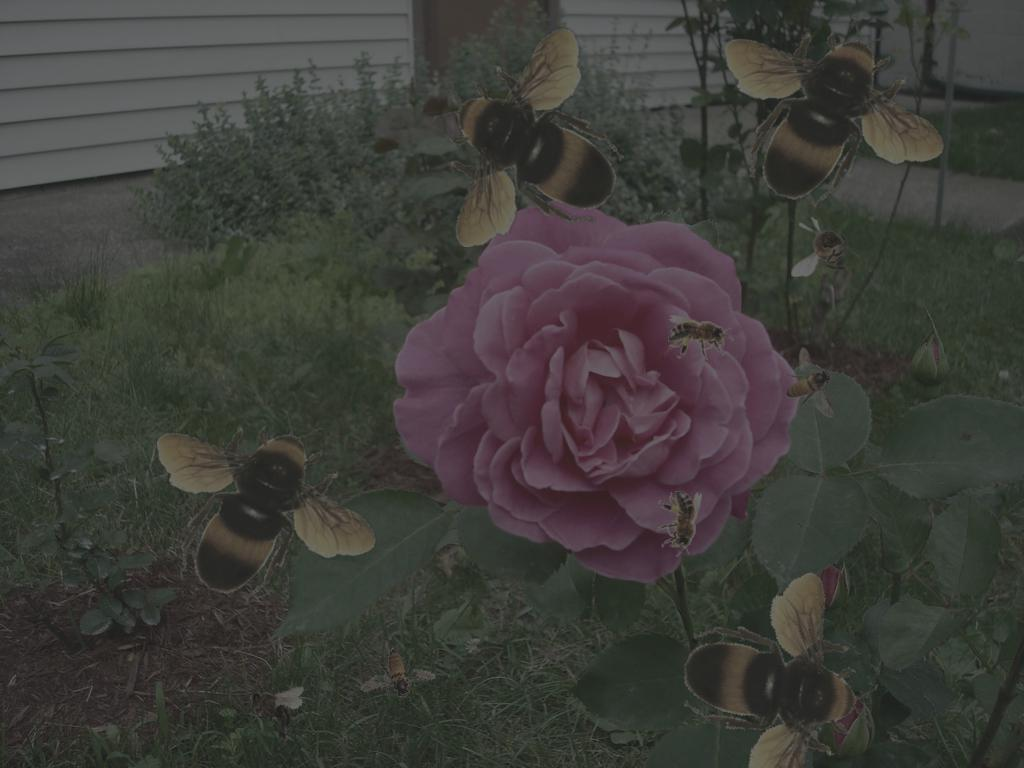Bee: (657, 563, 905, 768), (725, 16, 945, 207), (433, 27, 624, 247), (157, 410, 377, 601), (237, 672, 308, 748), (359, 643, 441, 708), (791, 216, 861, 277), (785, 347, 835, 418), (657, 491, 702, 557), (668, 315, 734, 360)
